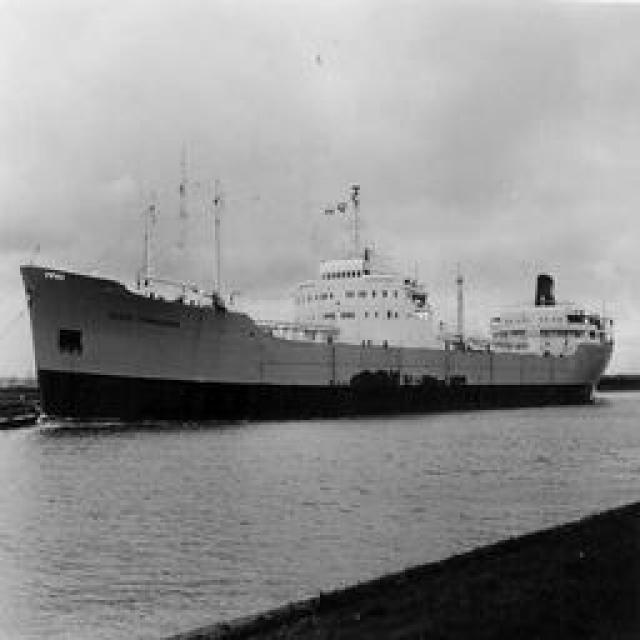Ship: (1, 185, 611, 428)
